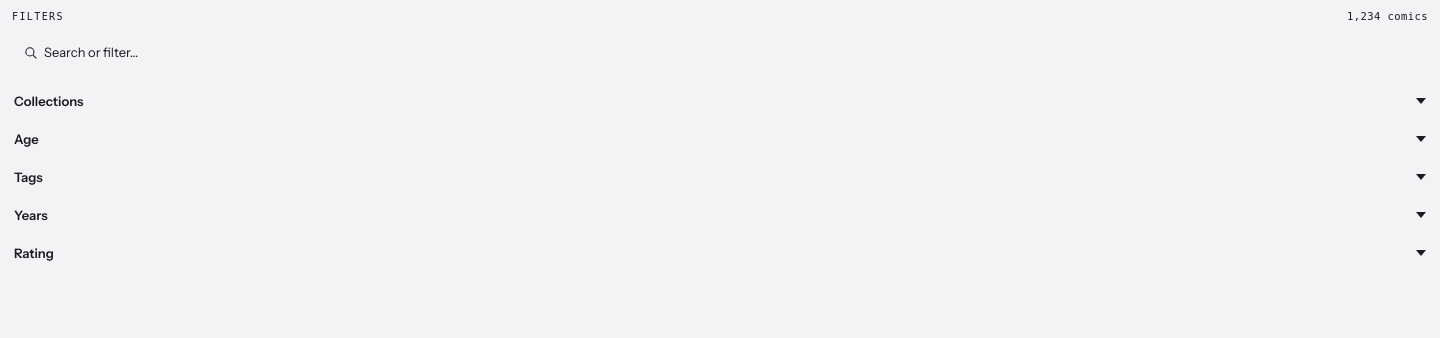
Test: FacetRail › the rail lists every facet section, the count, and hides the groups-only parts on a flat view
Check: the text "1,234 comics" is shown, box [1347,10,1428,22]
Check: the text "Collections" is shown, box [14,93,84,109]
Click the button "Collections" at {"x": 49, "y": 101}, box [12,82,1428,120]
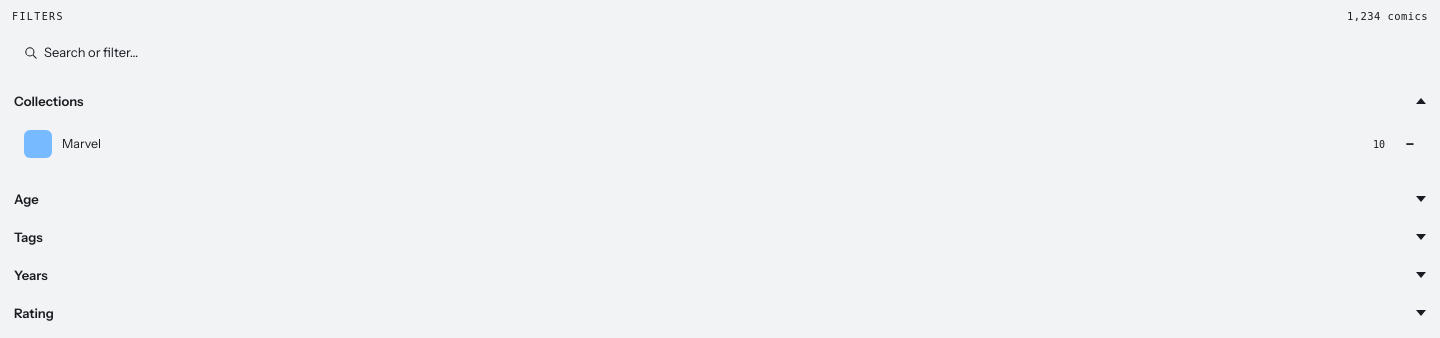
Check: the text "Marvel" is shown, box [62,136,101,151]
